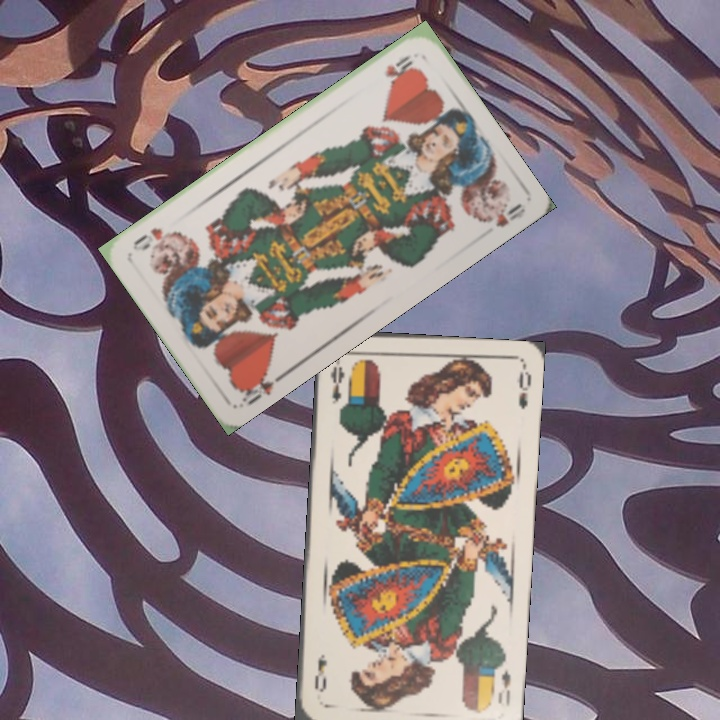EO: (326, 354, 347, 406), (494, 664, 513, 708)
HO: (234, 364, 288, 410), (381, 50, 416, 85)
